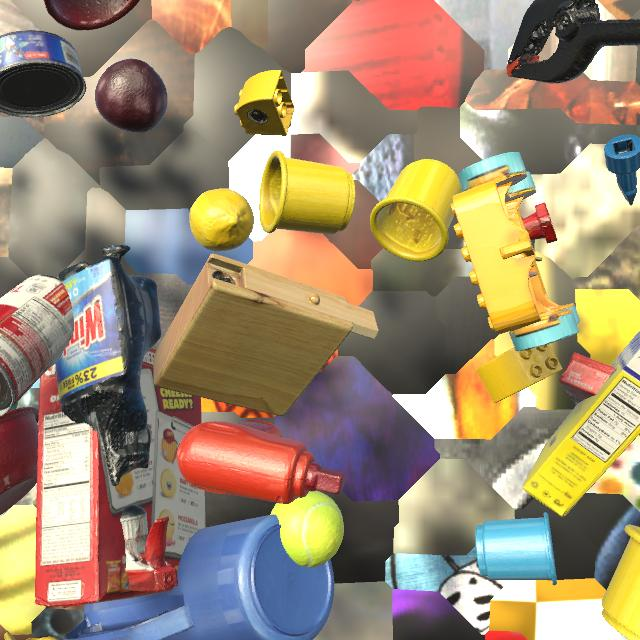ycb_003_cracker_box: (35, 348, 206, 608)
ycb_004_sugar_box: (522, 330, 640, 517)
ycb_005_tomato_soup_can: (0, 274, 74, 416)
ycb_007_tuna_fish_can: (0, 30, 86, 118)
ycb_009_gelatin_box: (559, 352, 640, 435)
ycb_014_lemon: (189, 188, 254, 252)
ycb_018_plum: (95, 59, 168, 133)
